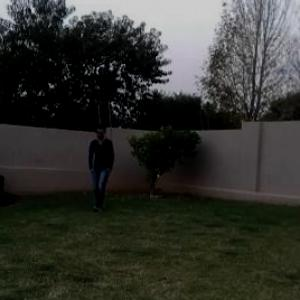follow: (85, 118, 118, 217)
